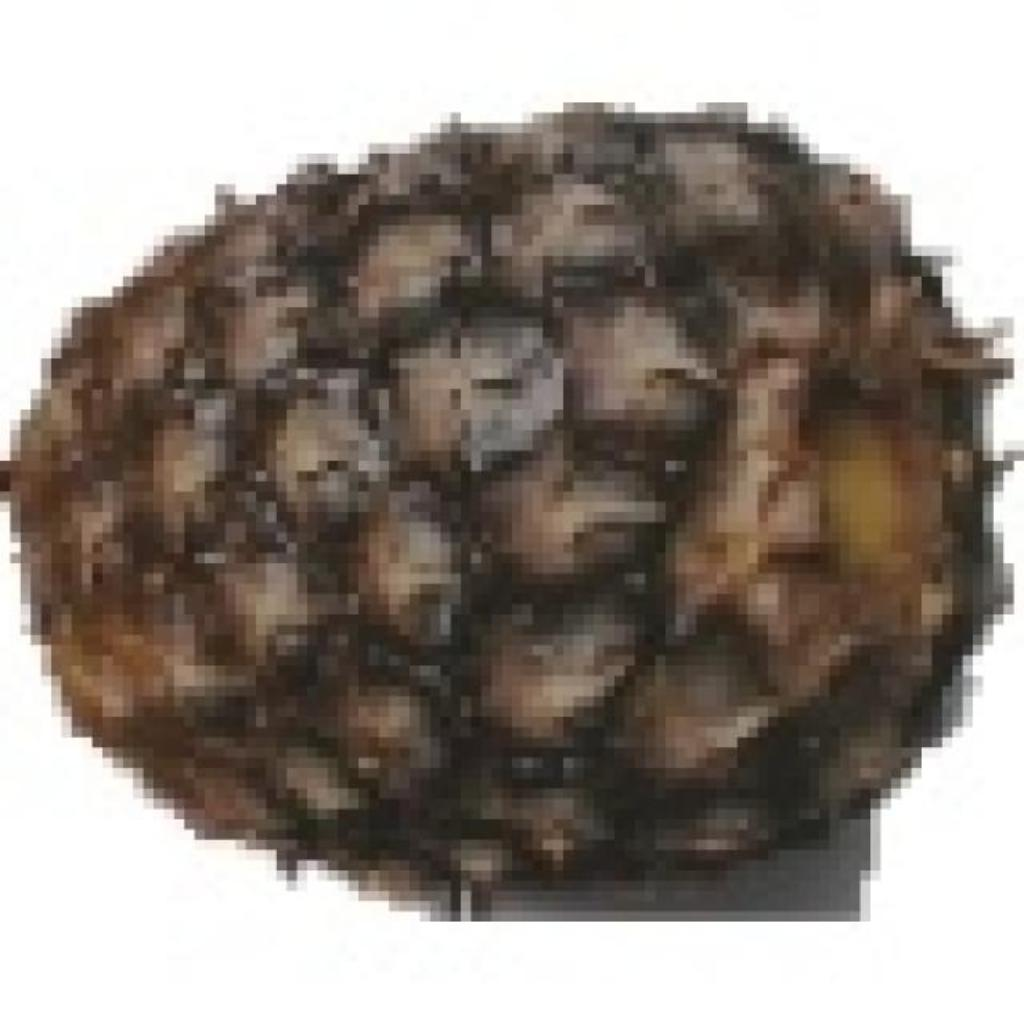pineapple: (0, 92, 983, 891)
